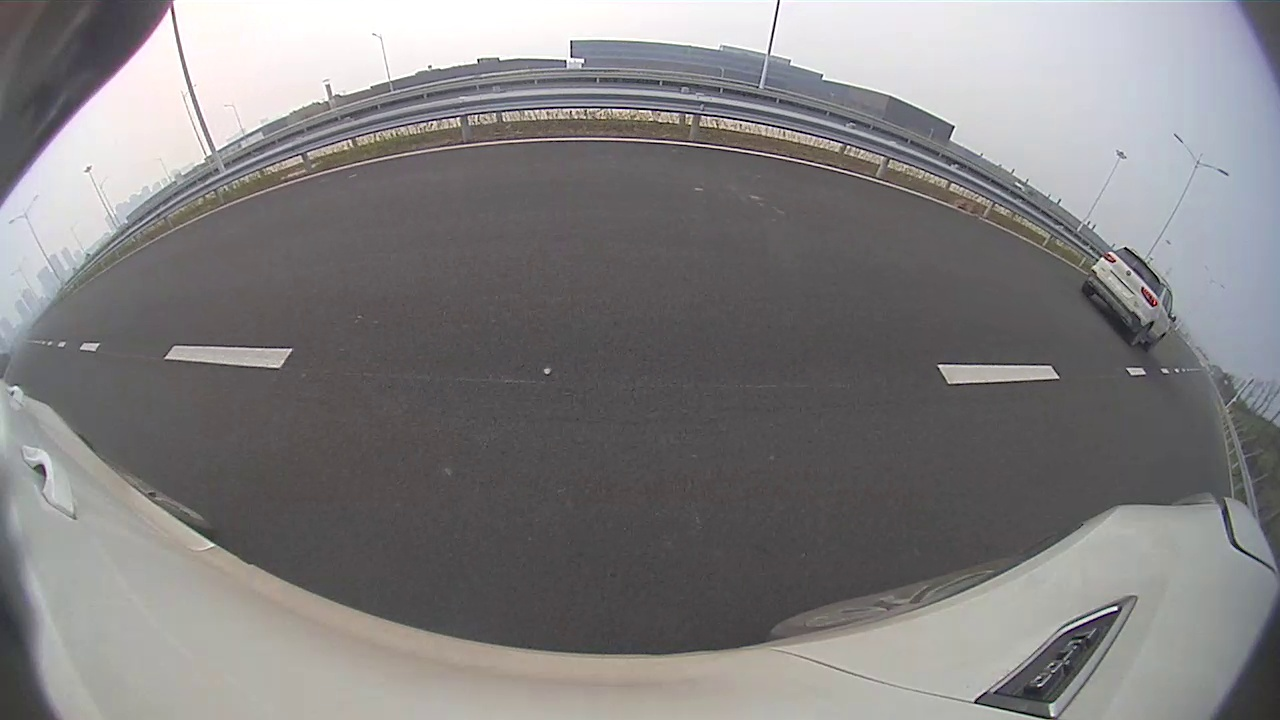car: (1082, 247, 1176, 345)
